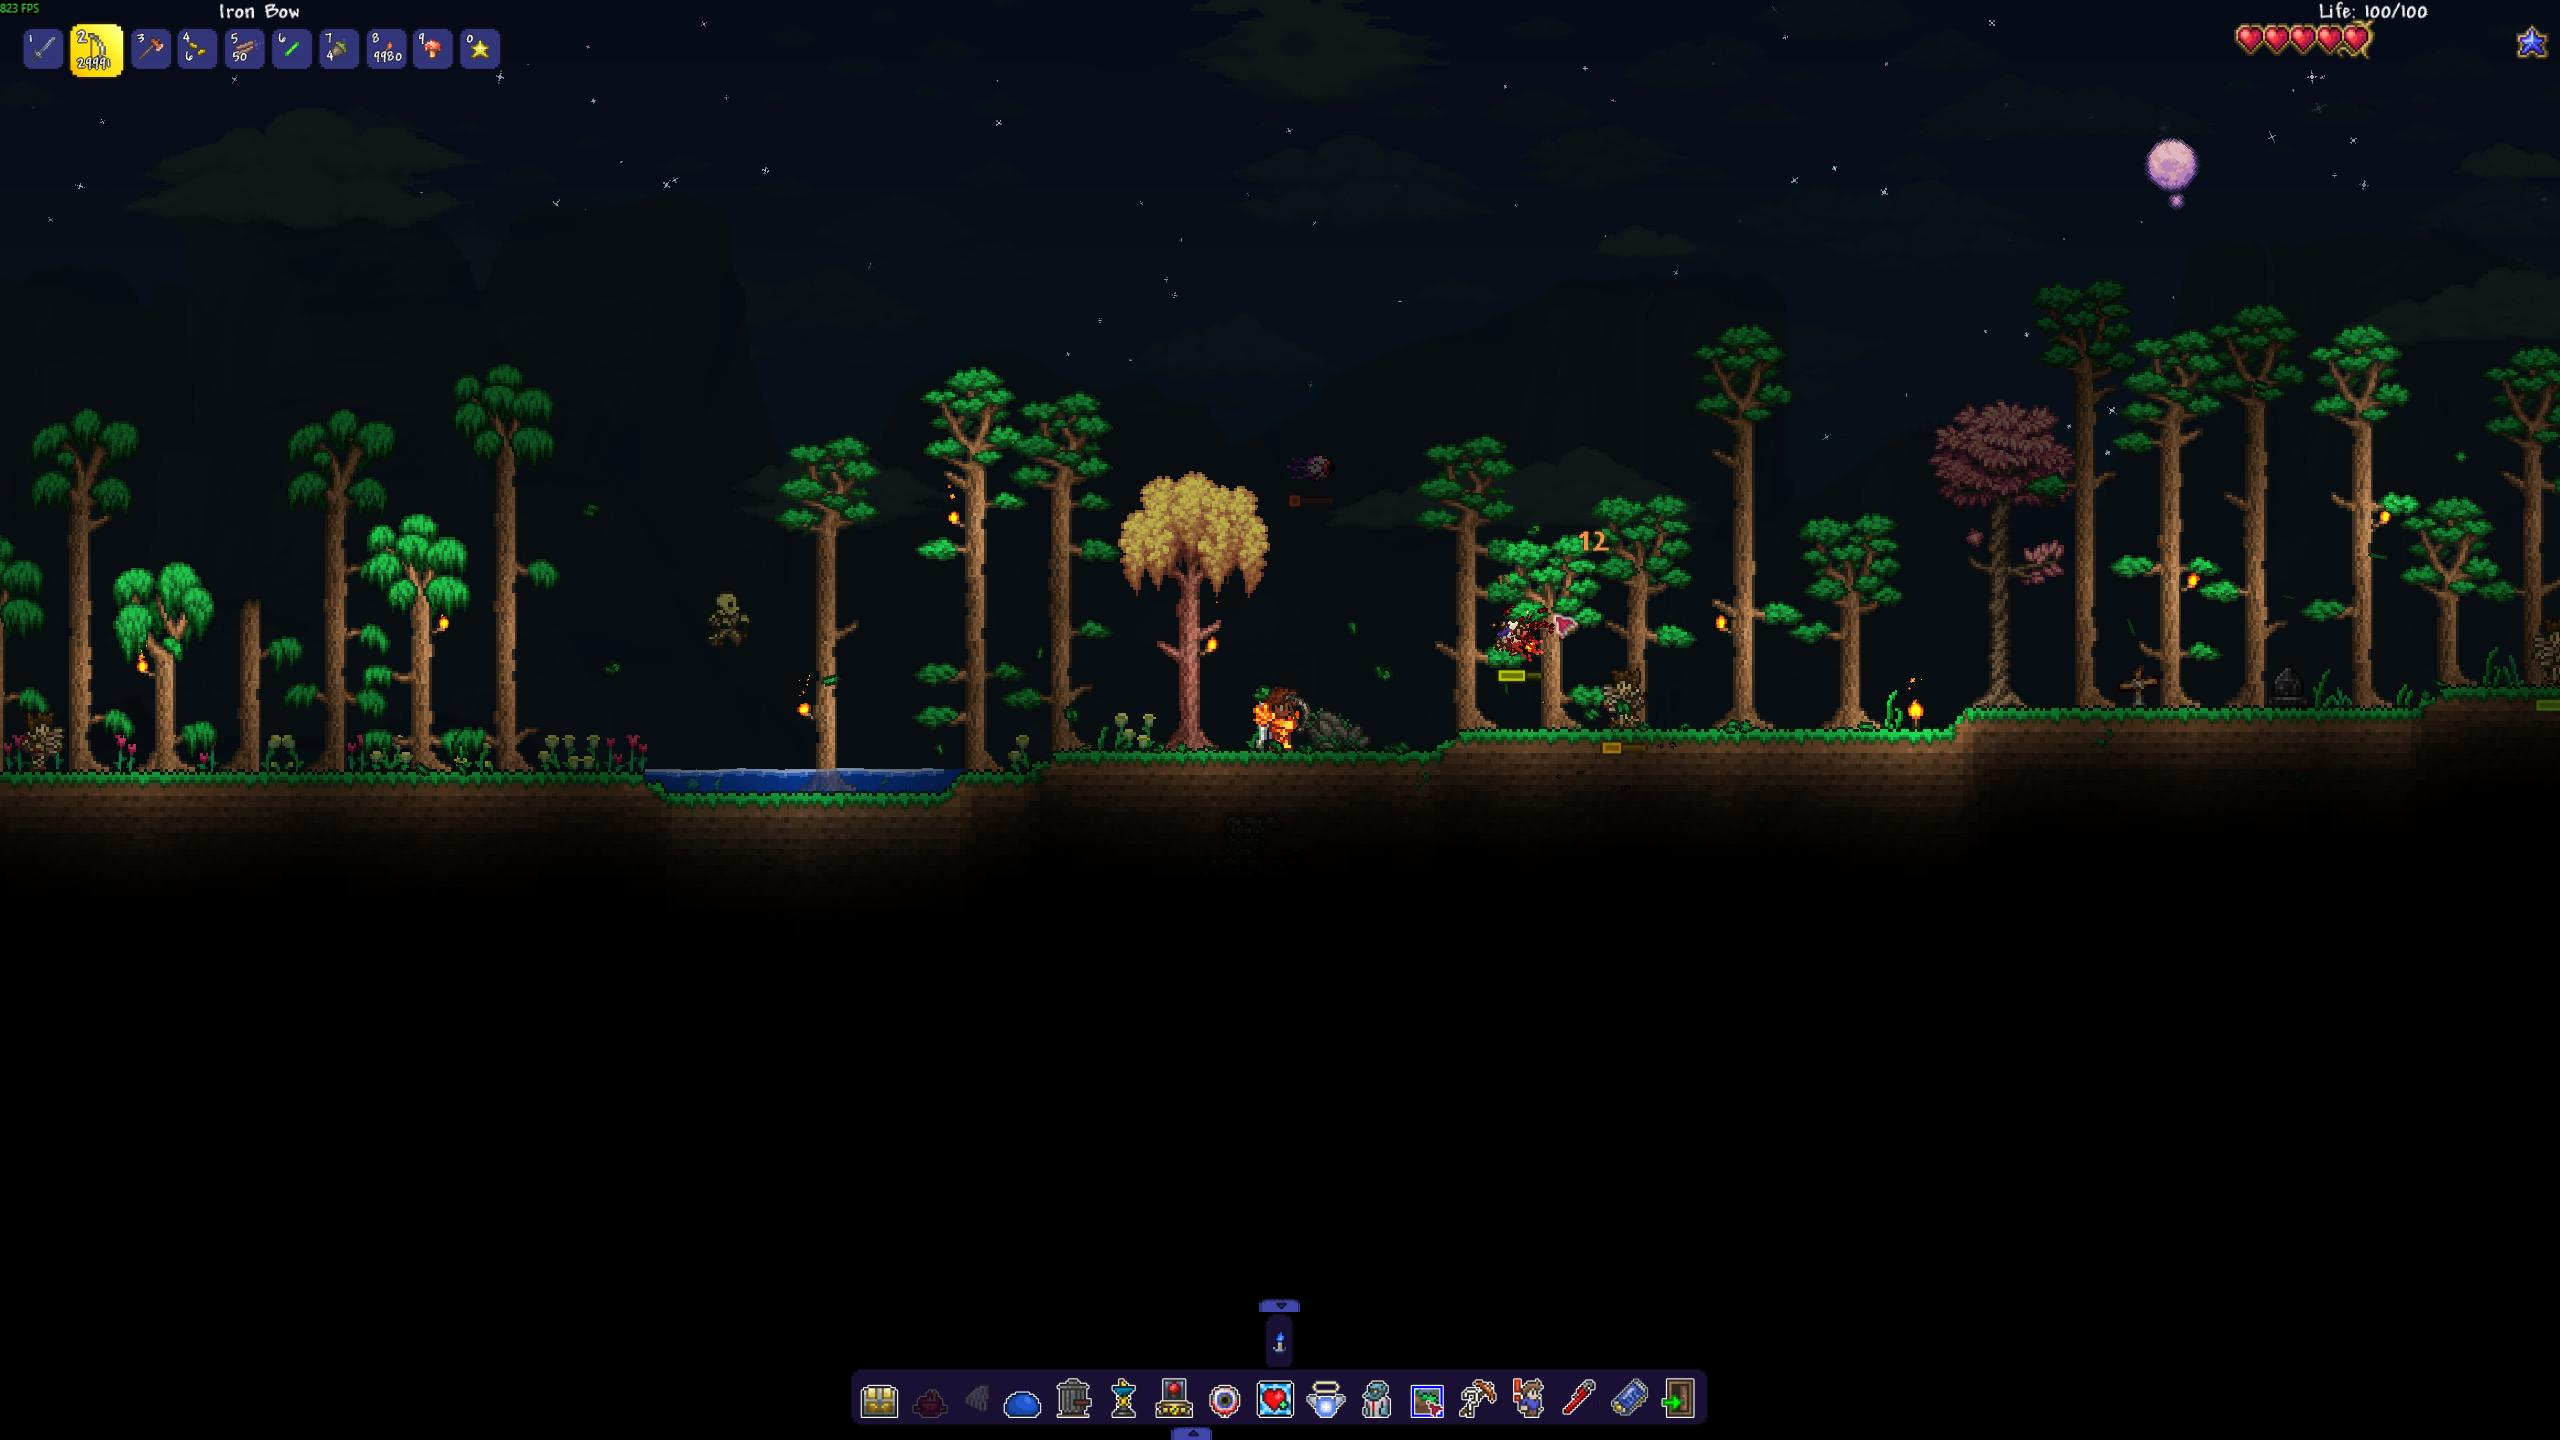Demon Eye: (1278, 438, 1345, 491), (1486, 608, 1547, 663)
Zombie: (702, 582, 756, 654), (1598, 661, 1651, 728), (14, 705, 67, 768), (2527, 624, 2560, 687)
